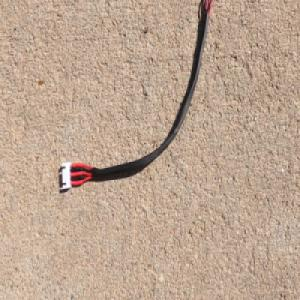Wire: (59, 0, 214, 193)
